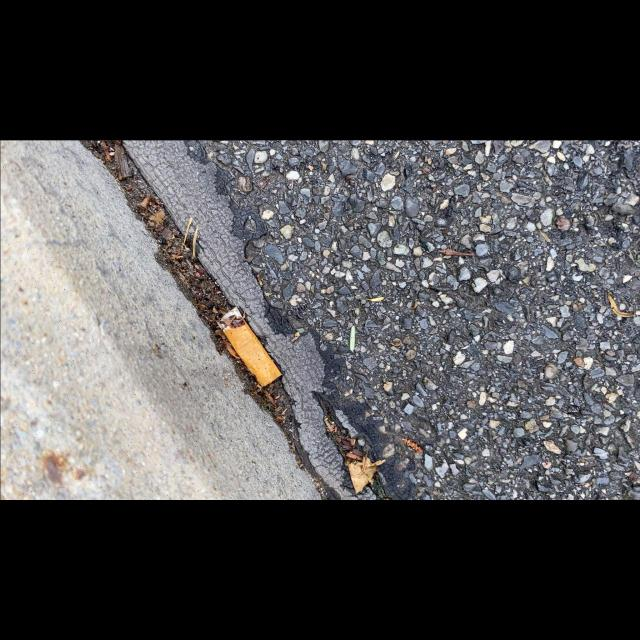cigarette: (215, 306, 282, 387)
